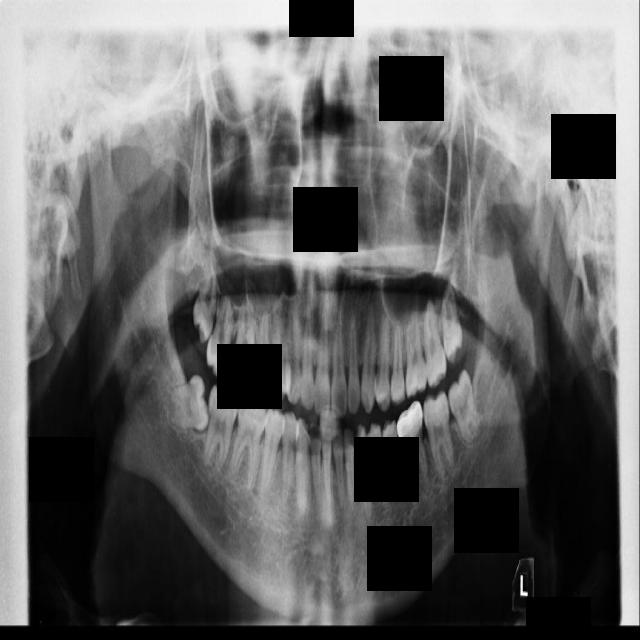3M ESPE Implant: (190, 260, 219, 344)
52: (387, 397, 432, 450), (227, 347, 258, 392)
73: (594, 585, 602, 591)
BioHorizons Implant: (419, 298, 449, 389)
BioLife Implant: (439, 282, 465, 364)
Biomet 3i Implant: (441, 368, 486, 449)
Blue Sky Bio Implant: (420, 390, 456, 479)
Caries: (202, 293, 238, 382)
Implant: (200, 383, 241, 471)
Keystone Dental Implant: (169, 373, 212, 434)
